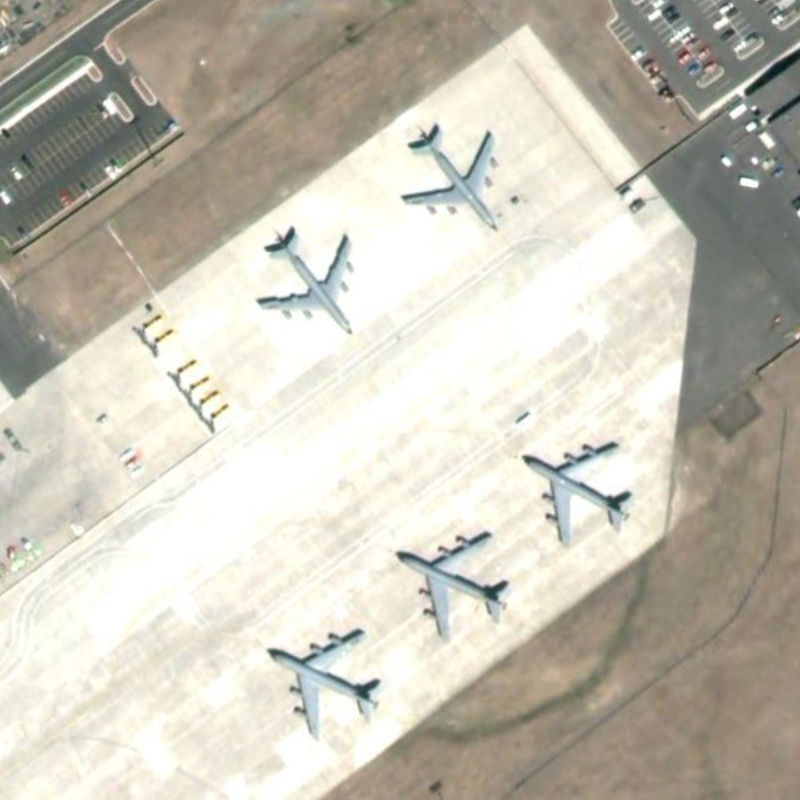A14: (251, 218, 372, 343), (387, 526, 518, 639), (264, 625, 389, 740), (515, 441, 641, 551), (399, 120, 515, 236)
